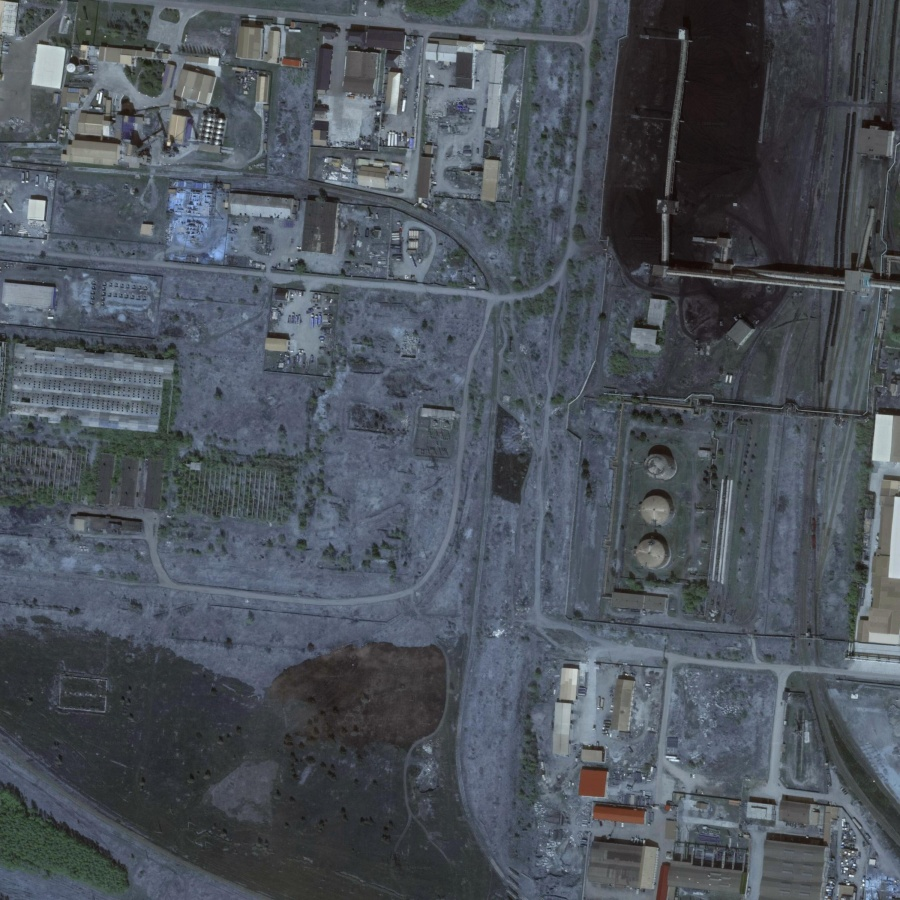PowerPlant: (595, 387, 743, 629)
